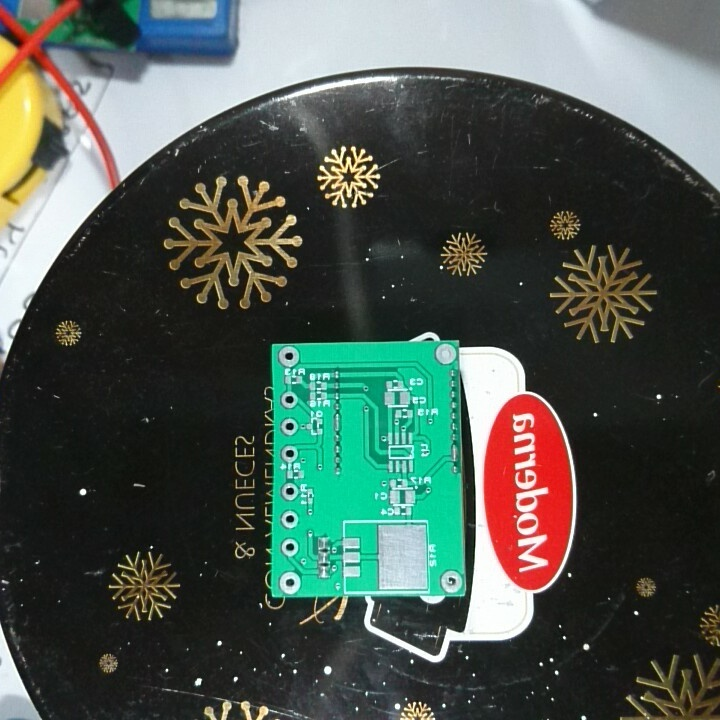F: (277, 569, 304, 595), (439, 569, 464, 594), (434, 342, 459, 367), (275, 345, 301, 369), (279, 509, 301, 532), (278, 444, 299, 466), (279, 537, 300, 558), (279, 390, 299, 411), (280, 418, 300, 436), (279, 482, 299, 500)
P: (332, 411, 344, 432), (449, 443, 460, 464)
